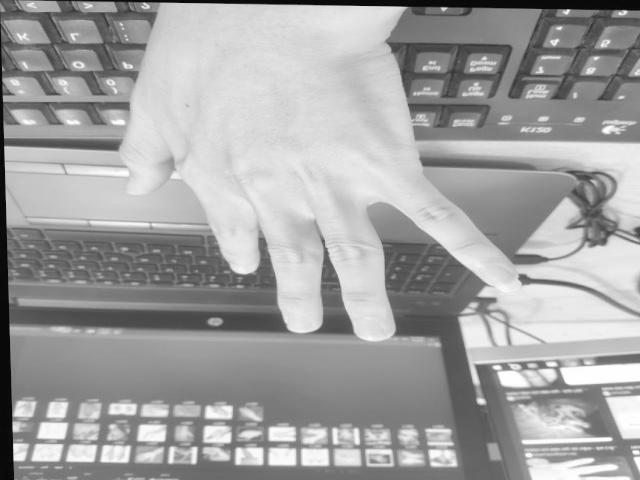not-gloved: (113, 0, 514, 343)
